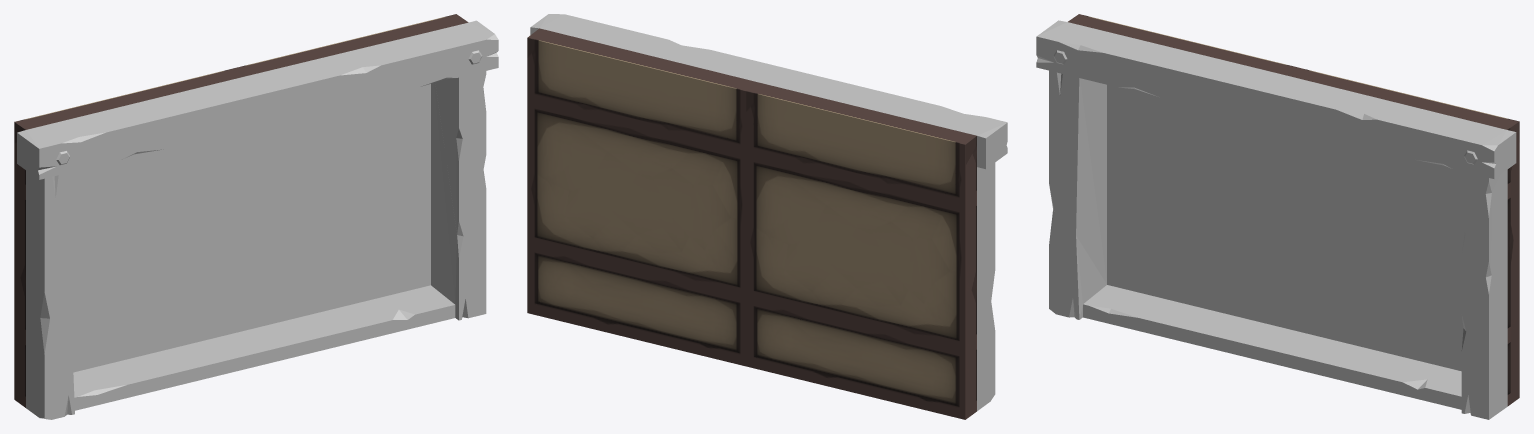
The model's file is SM_Bld_Alcove_02.fbx.
The picture shows the model from 3 angles, left to right: view 1: azimuth 30°, elevation 25°; view 2: azimuth 150°, elevation 25°; view 3: azimuth 330°, elevation 25°; orthographic projection.
Visible parts, largest first — view 1: SM_Bld_Alcove_02; view 2: SM_Bld_Alcove_02; view 3: SM_Bld_Alcove_02.
Boxes of the visible parts, left/top/right/bottom form: SM_Bld_Alcove_02: left=14, top=14, right=498, bottom=419; SM_Bld_Alcove_02: left=527, top=14, right=1007, bottom=419; SM_Bld_Alcove_02: left=1036, top=14, right=1519, bottom=419.
Size of the model in its own units: 520 by 301 by 67.94.
